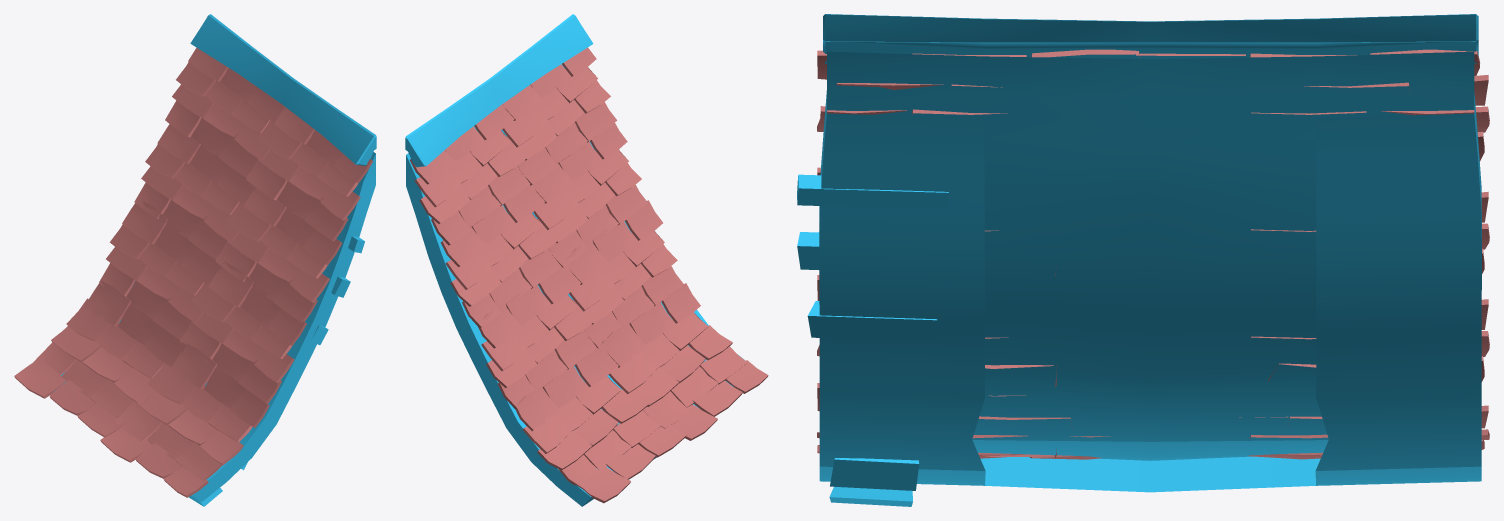
The model's file is Roof_01_half.fbx.
The picture shows the model from 3 angles, left to right: view 1: azimuth 30°, elevation 25°; view 2: azimuth 150°, elevation 25°; view 3: azimuth 270°, elevation 25°; orthographic projection. The views are drawn at different scales.
Parts seen in each view (by area): view 1: Roof_01_half_LOD0; view 2: Roof_01_half_LOD0; view 3: Roof_01_half_LOD0.
Part boxes in pixels (x1,y1,x2,y2): Roof_01_half_LOD0: (14, 14, 376, 506); Roof_01_half_LOD0: (405, 14, 768, 506); Roof_01_half_LOD0: (797, 14, 1489, 506).
Size of what is drawn, in the model's own units: 517 by 837 by 801.
